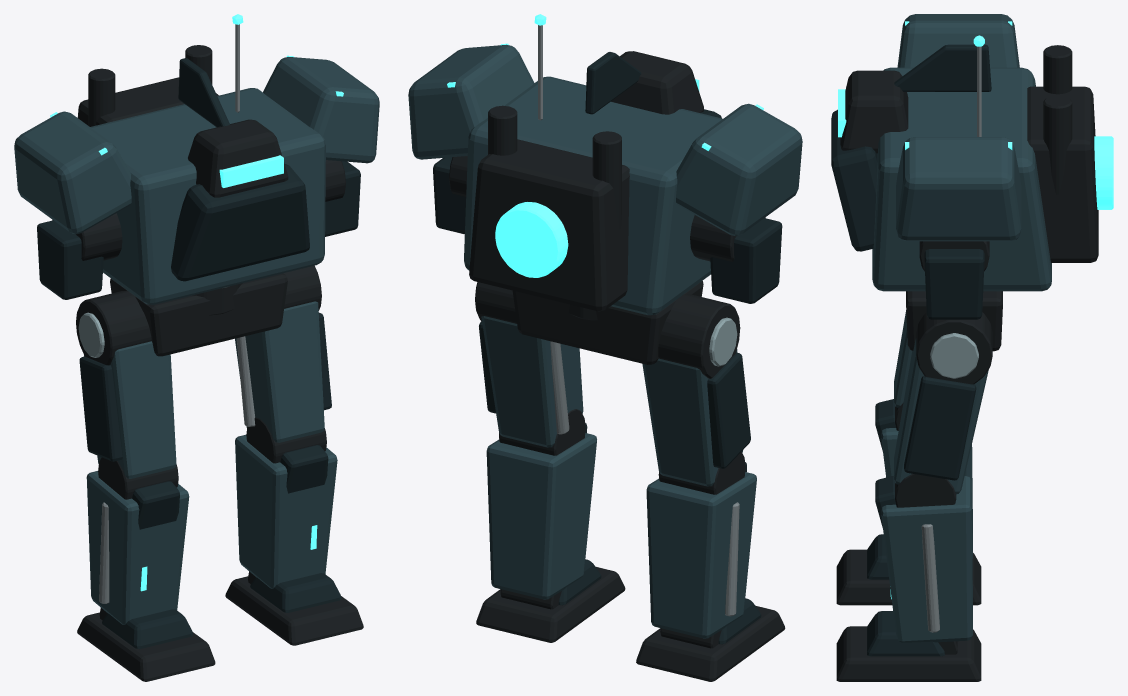
The model's file is mech_pathfinder.glb.
3 views of the same model, side by side, from view 1: azimuth 30°, elevation 25°; view 2: azimuth 150°, elevation 25°; view 3: azimuth 270°, elevation 25° (orthographic). The views are drawn at different scales.
Parts seen in each view (by area): view 1: core, chest, shin_armor_R, shoulder_L, shin_armor_L, thigh_armor_R, shoulder_R, thigh_armor_L, pelvis, cockpit, foot_sole_L, foot_sole_R (+23 smaller); view 2: core, backpack, shin_armor_R, shin_armor_L, shoulder_L, shoulder_R, thigh_armor_R, thigh_armor_L, pelvis, foot_sole_L, foot_sole_R, reactor (+19 smaller); view 3: core, shoulder_R, shin_armor_R, backpack, thigh_plate_R, foot_sole_R, shoulder_L, cockpit, upper_arm_R, chest, fin, hip_joint_R (+17 smaller).
Part boxes in pixels (x1=…): core: x1=90, y1=88, x2=325, y2=304; chest: x1=171, y1=164, x2=309, y2=281; shin_armor_R: x1=235, y1=434, x2=337, y2=588; shoulder_L: x1=14, y1=111, x2=131, y2=234; shin_armor_L: x1=86, y1=471, x2=189, y2=624; thigh_armor_R: x1=235, y1=301, x2=324, y2=442; shoulder_R: x1=263, y1=57, x2=379, y2=163; thigh_armor_L: x1=84, y1=341, x2=176, y2=478; pelvis: x1=110, y1=273, x2=287, y2=356; cockpit: x1=188, y1=119, x2=288, y2=197; foot_sole_L: x1=77, y1=612, x2=215, y2=681; foot_sole_R: x1=225, y1=576, x2=363, y2=645; core: x1=464, y1=76, x2=722, y2=315; backpack: x1=469, y1=139, x2=629, y2=311; shin_armor_R: x1=486, y1=433, x2=596, y2=599; shin_armor_L: x1=646, y1=472, x2=756, y2=638; shoulder_L: x1=676, y1=103, x2=802, y2=236; shoulder_R: x1=408, y1=44, x2=534, y2=159; thigh_armor_R: x1=481, y1=316, x2=583, y2=447; thigh_armor_L: x1=642, y1=349, x2=742, y2=486; pelvis: x1=512, y1=281, x2=703, y2=364; foot_sole_L: x1=636, y1=605, x2=785, y2=681; foot_sole_R: x1=476, y1=567, x2=625, y2=642; reactor: x1=495, y1=202, x2=568, y2=277; core: x1=872, y1=67, x2=1051, y2=291; shoulder_R: x1=896, y1=137, x2=1021, y2=241; shin_armor_R: x1=881, y1=476, x2=972, y2=642; backpack: x1=1027, y1=86, x2=1098, y2=262; thigh_plate_R: x1=904, y1=376, x2=976, y2=480; foot_sole_R: x1=836, y1=626, x2=981, y2=681; shoulder_L: x1=897, y1=14, x2=1019, y2=67; cockpit: x1=840, y1=70, x2=908, y2=153; upper_arm_R: x1=924, y1=249, x2=984, y2=319; chest: x1=831, y1=109, x2=877, y2=251; fin: x1=894, y1=44, x2=991, y2=91; hip_joint_R: x1=916, y1=312, x2=992, y2=384.
Size of the model in its own units: 4.76 by 8.24 by 3.42.
